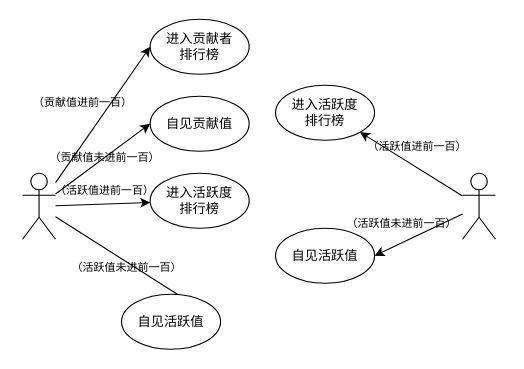
This 524x369 diagram has some shape labels left out. The shapes that lost their labels are listed below. From the top down, each one's centre as x and y in pixels, then its label:
(38,205): 贡献者
(478,205): 普通用户
